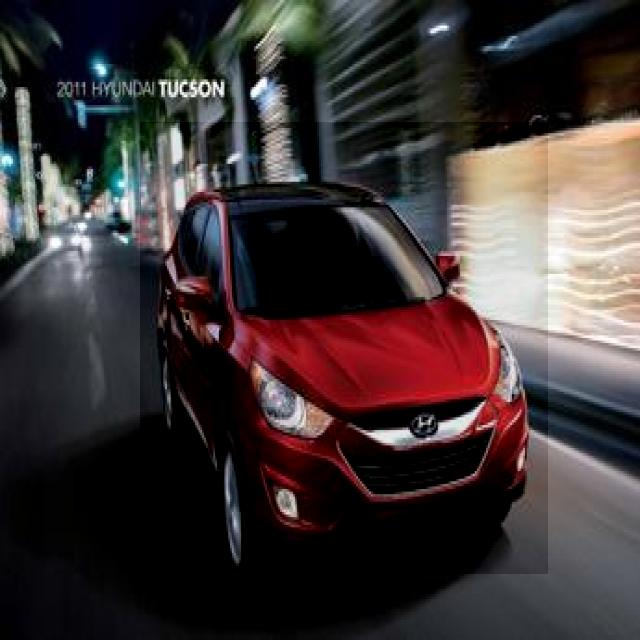Car: (140, 122, 548, 574)
